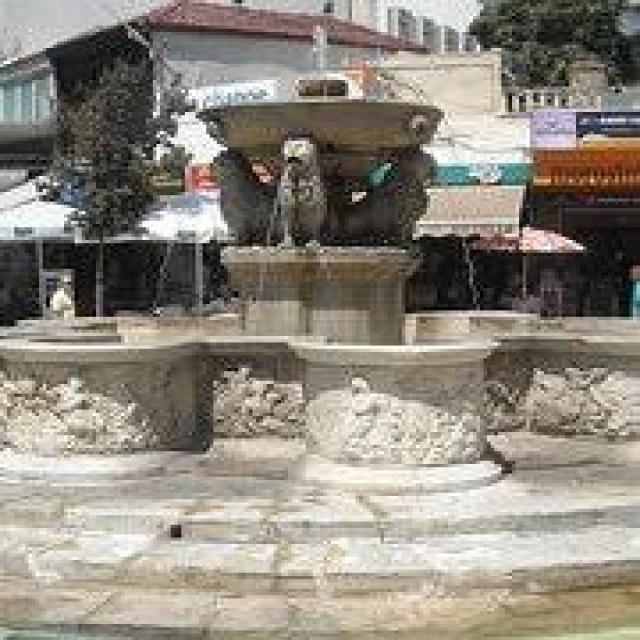Liontaria: (1, 76, 640, 483)
